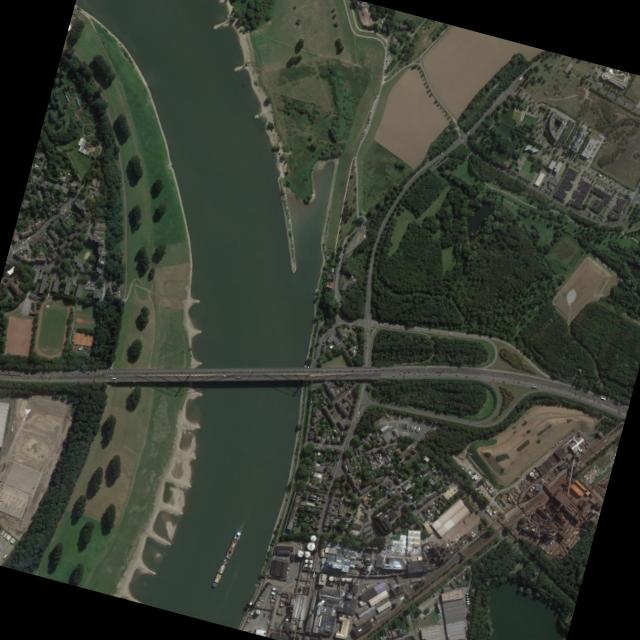ship: (208, 525, 243, 586)
storage-tank: (304, 540, 315, 551), (295, 547, 303, 557), (302, 548, 310, 557), (308, 532, 316, 541), (302, 561, 307, 567), (302, 557, 307, 562), (307, 562, 311, 567), (308, 558, 312, 562)
